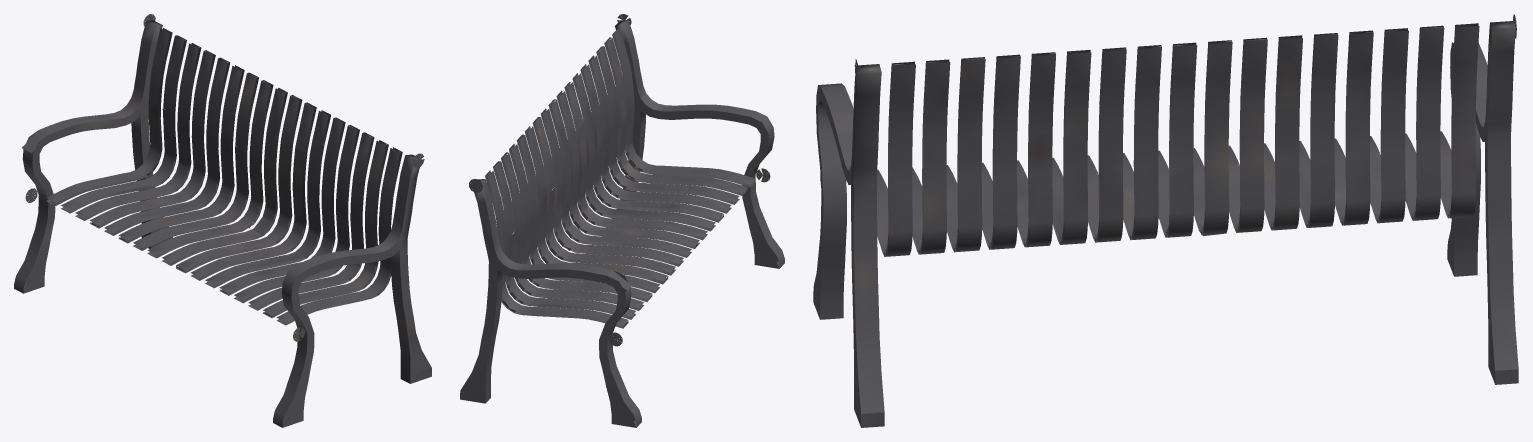
The model's file is tj_bench_park_short.fbx.
The picture shows the model from 3 angles, left to right: view 1: azimuth 30°, elevation 25°; view 2: azimuth 150°, elevation 25°; view 3: azimuth 270°, elevation 25°; orthographic projection. The views are drawn at different scales.
Visible parts, largest first — view 1: tj_bench_park_short_LOD0; view 2: tj_bench_park_short_LOD0; view 3: tj_bench_park_short_LOD0.
Boxes of the visible parts, x1,y1,x2,y2 form: tj_bench_park_short_LOD0: [14, 14, 431, 427]; tj_bench_park_short_LOD0: [460, 14, 784, 427]; tj_bench_park_short_LOD0: [813, 14, 1518, 427].
Size of what is drawn, in the model's own units: 1.1 by 1.07 by 1.92.
1 material, 1 textured.
